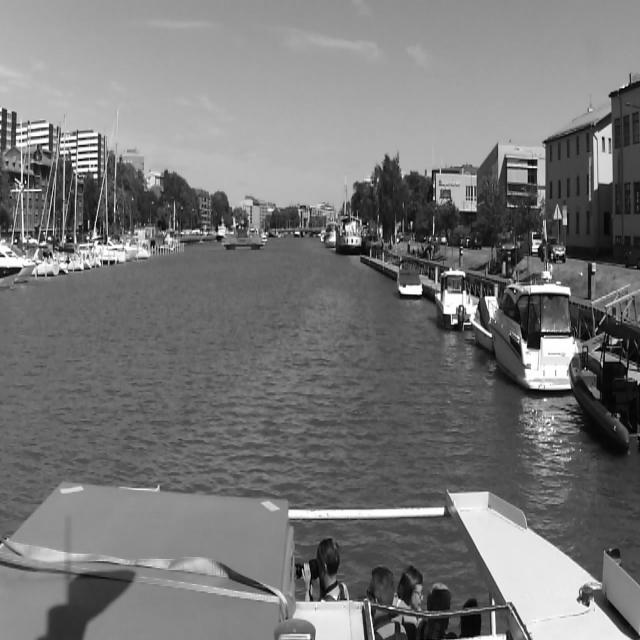ship: (574, 295, 636, 460), (491, 286, 573, 390), (93, 98, 136, 266), (13, 122, 59, 276), (60, 116, 90, 270), (437, 264, 467, 330), (218, 220, 266, 250), (337, 211, 361, 256), (398, 262, 423, 299), (324, 221, 338, 248)
